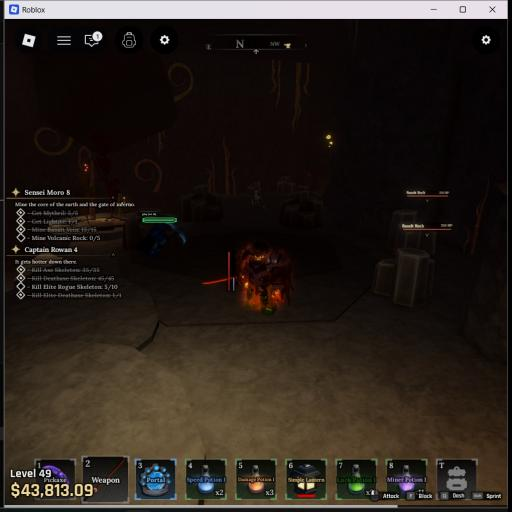player: (240, 242, 292, 314)
rock: (372, 248, 434, 306), (388, 210, 437, 255), (181, 185, 223, 223), (280, 191, 323, 228), (277, 176, 295, 194), (247, 182, 261, 197)
